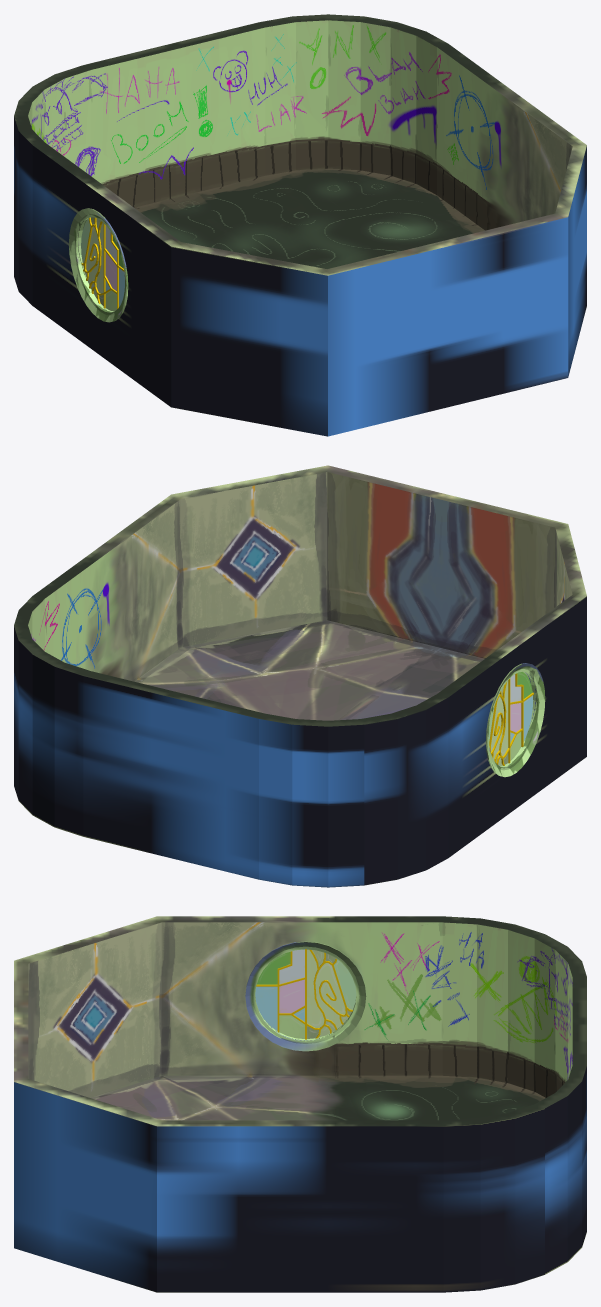
Rendered from sallereal.glb.
The picture shows the model from 3 angles, top to bottom: view 1: azimuth 30°, elevation 25°; view 2: azimuth 150°, elevation 25°; view 3: azimuth 270°, elevation 25°; orthographic projection. The views are drawn at different scales.
Parts seen in each view (by area): view 1: sol, color window, window, moulure window; view 2: sol, color window, window, moulure window; view 3: sol, color window, window, moulure window.
Boxes of the visible parts, <box> form: sol: <box>14,14,586,436</box>; color window: <box>81,217,124,311</box>; window: <box>69,208,128,322</box>; moulure window: <box>81,217,124,309</box>; sol: <box>14,465,586,887</box>; color window: <box>489,672,533,765</box>; window: <box>485,663,545,777</box>; moulure window: <box>489,673,533,765</box>; sol: <box>14,916,586,1292</box>; color window: <box>255,949,356,1038</box>; window: <box>245,941,366,1051</box>; moulure window: <box>256,949,352,1039</box>.
Size of the model in its own units: 8.83 by 3.25 by 10.16.
4 materials, 4 textured.
